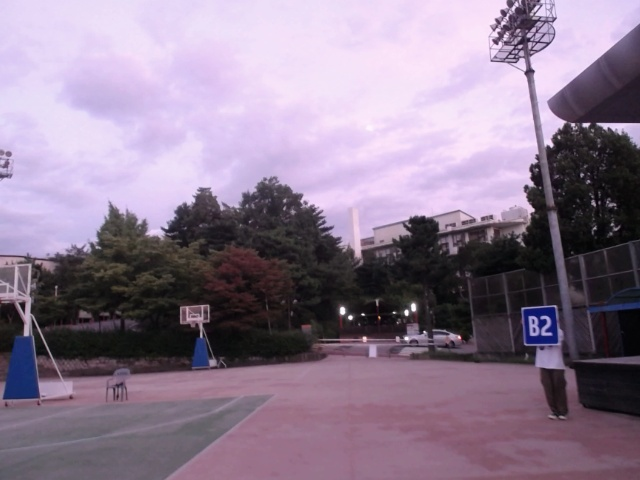delivery_b2: (521, 305, 560, 346)
